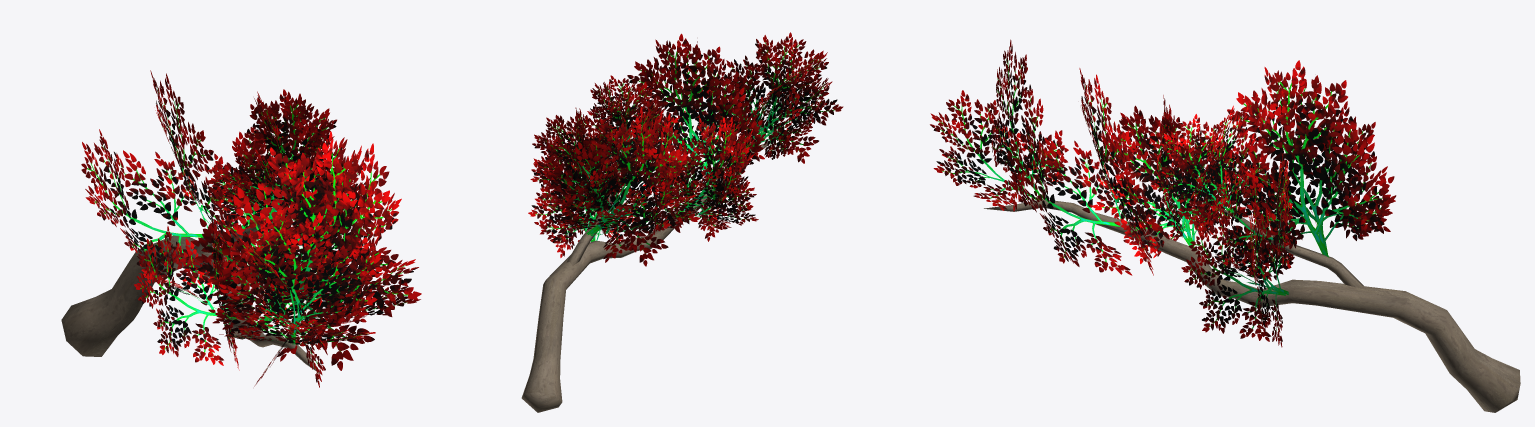
File: SM_Tree_Bent_01.fbx
3 views of the same model, side by side, from view 1: azimuth 30°, elevation 25°; view 2: azimuth 150°, elevation 25°; view 3: azimuth 270°, elevation 25° (orthographic). The views are drawn at different scales.
Parts seen in each view (by area): view 1: SM_Tree_Bent_01_LOD0; view 2: SM_Tree_Bent_01_LOD0; view 3: SM_Tree_Bent_01_LOD0.
Part boxes in pixels (x1,y1,x2,y2): SM_Tree_Bent_01_LOD0: [61, 70, 421, 387]; SM_Tree_Bent_01_LOD0: [521, 32, 843, 412]; SM_Tree_Bent_01_LOD0: [930, 39, 1520, 412].
Size of the model in its own units: 695 by 788 by 1177.
